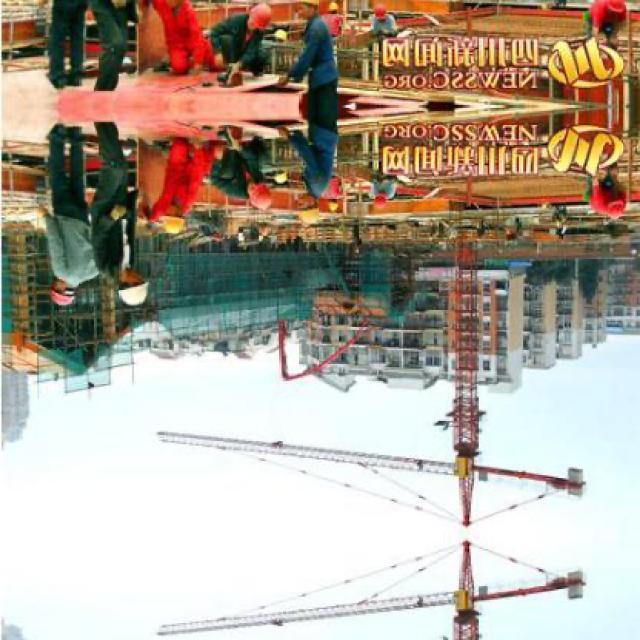con casco: (48, 272, 108, 325), (120, 268, 160, 323)
